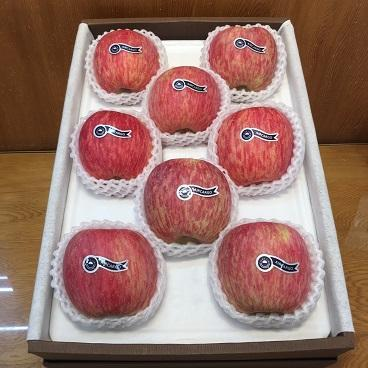apple: (209, 220, 322, 328), (55, 224, 167, 329), (141, 157, 238, 245), (73, 110, 160, 199), (215, 105, 295, 183), (89, 27, 166, 102), (145, 63, 223, 135), (209, 24, 280, 91)
